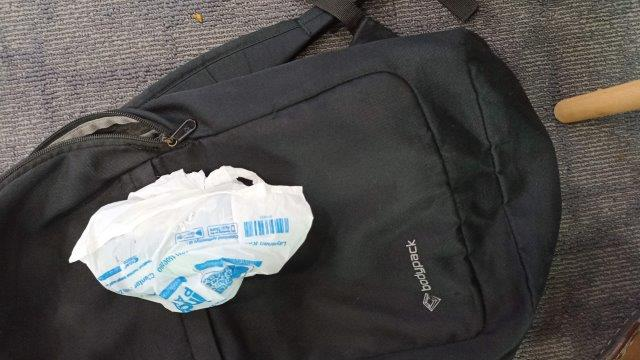plastik: (70, 167, 314, 313)
